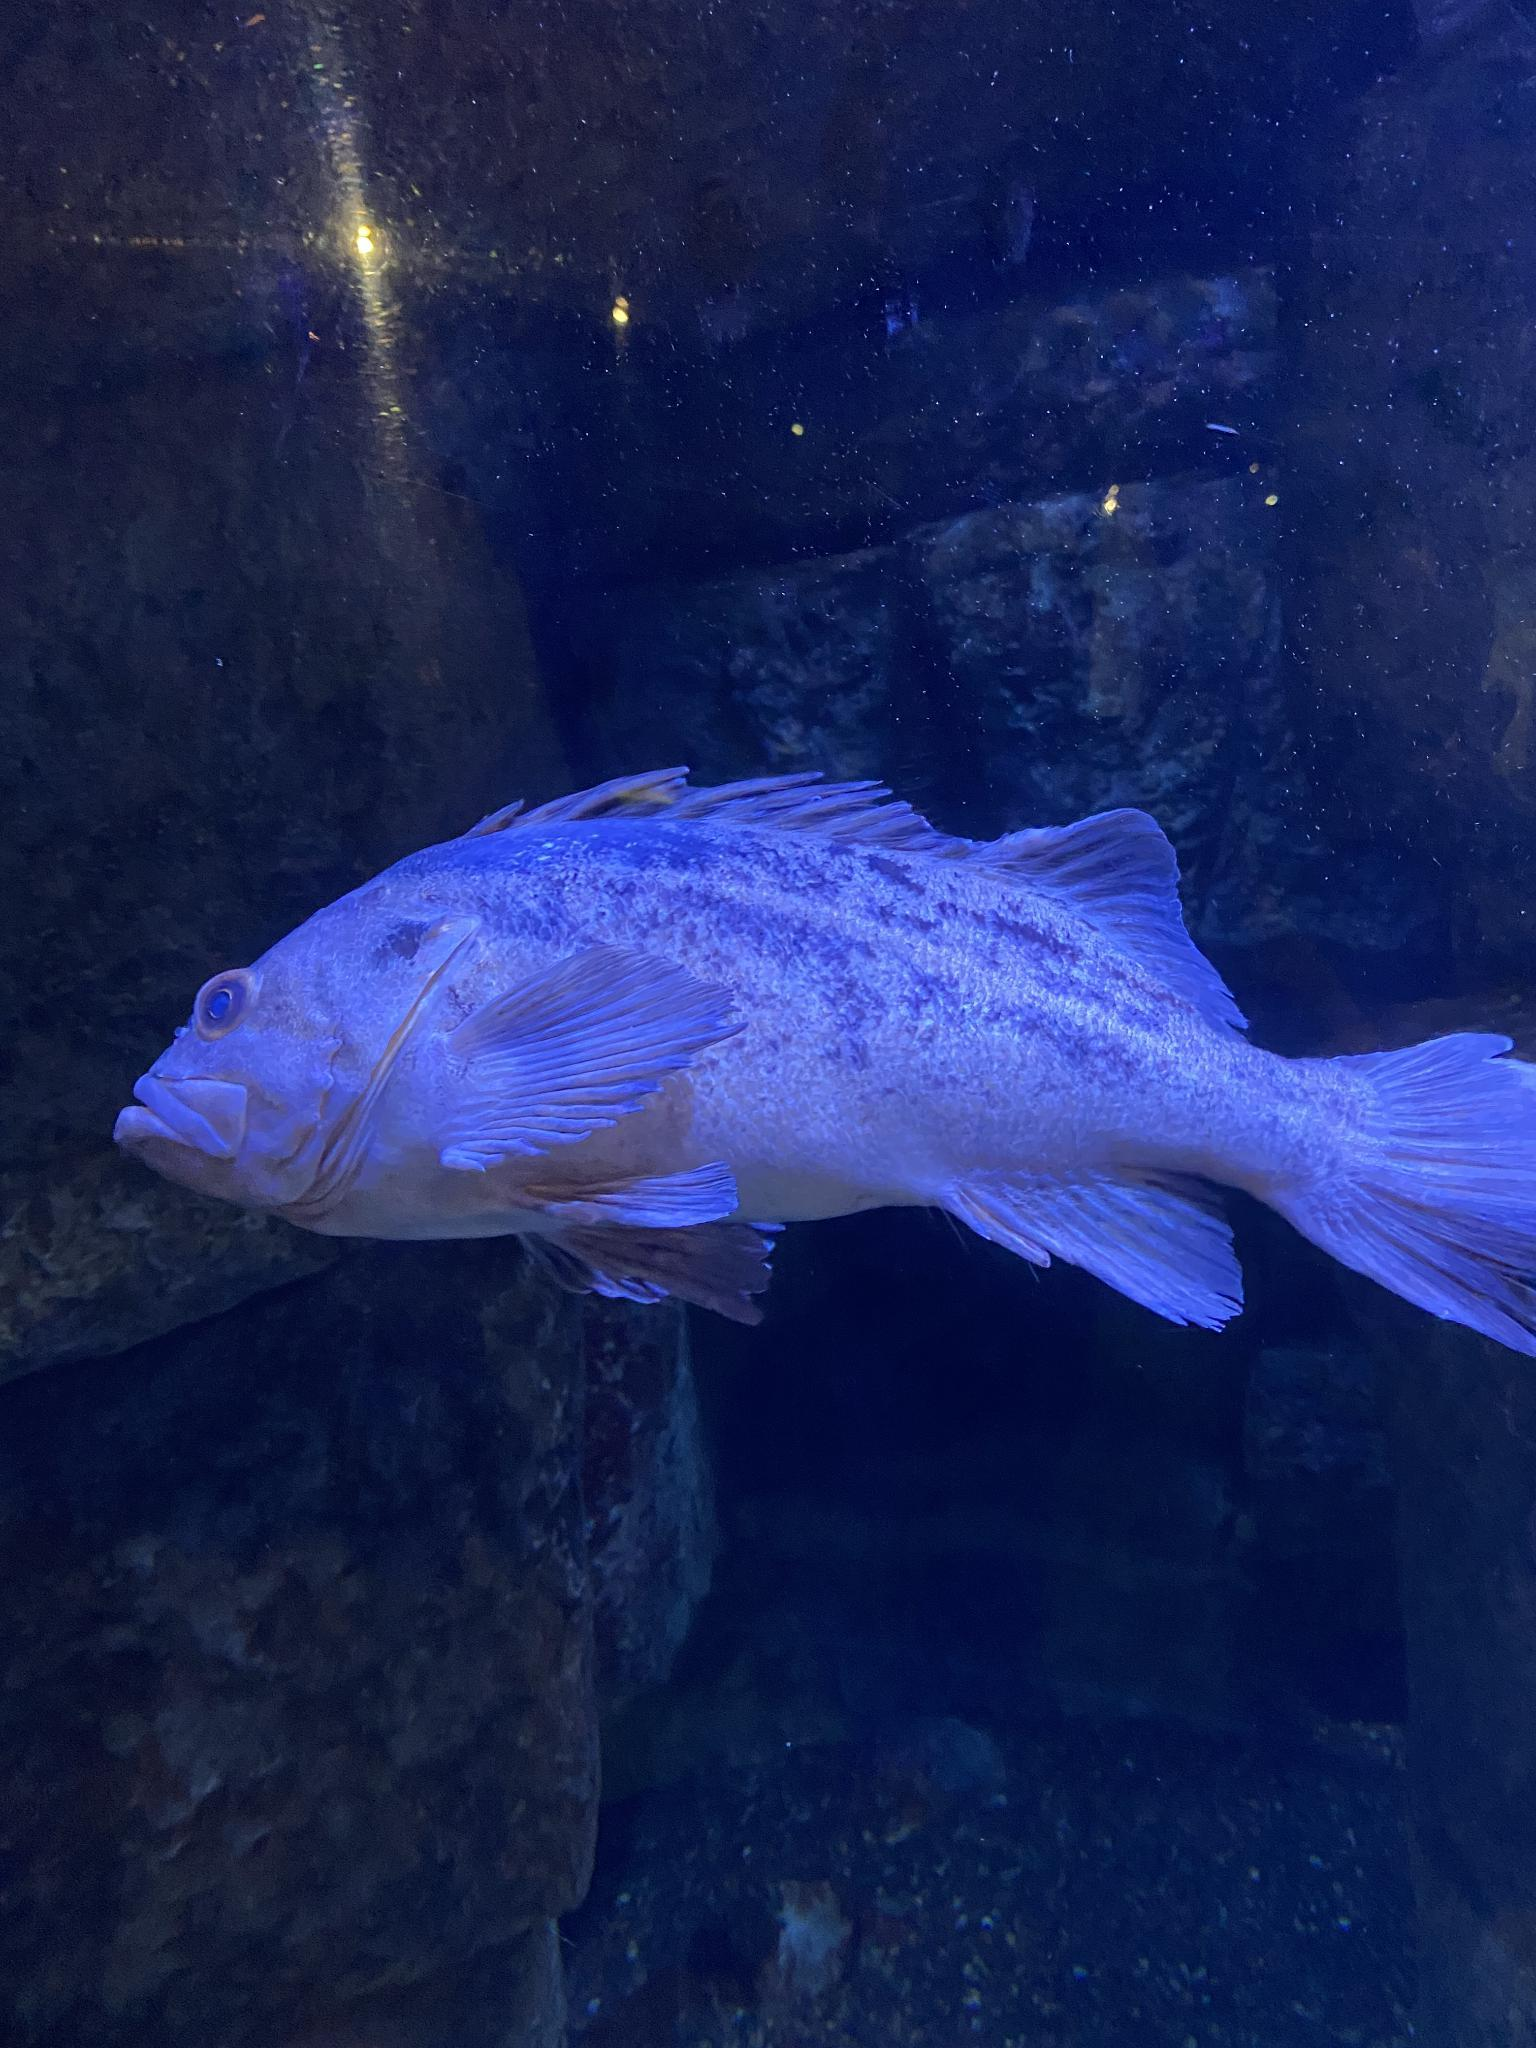fish: (111, 726, 1521, 1442)
